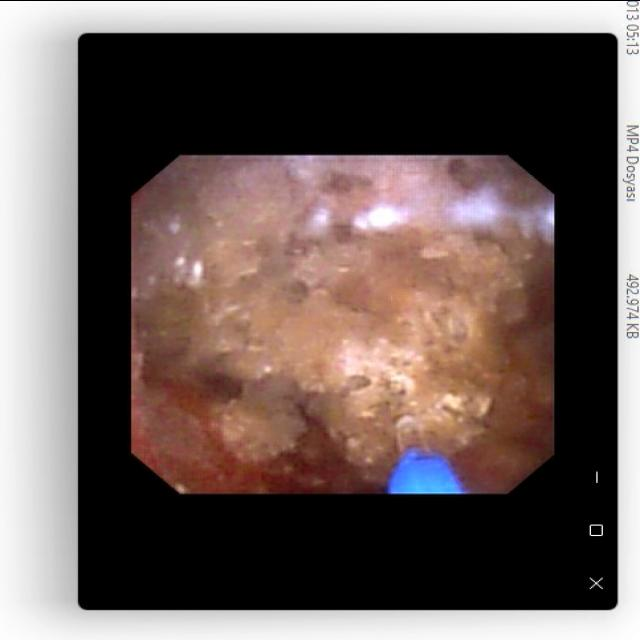fiber: (392, 455, 455, 489)
stone: (140, 159, 527, 476)
